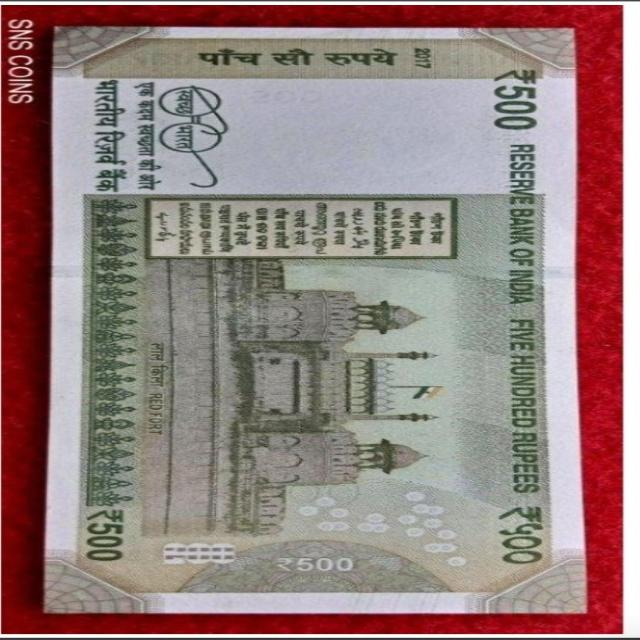500IndianRupees: (53, 28, 581, 611)
